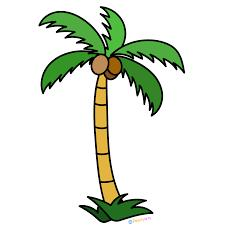tree: (40, 6, 187, 224)
